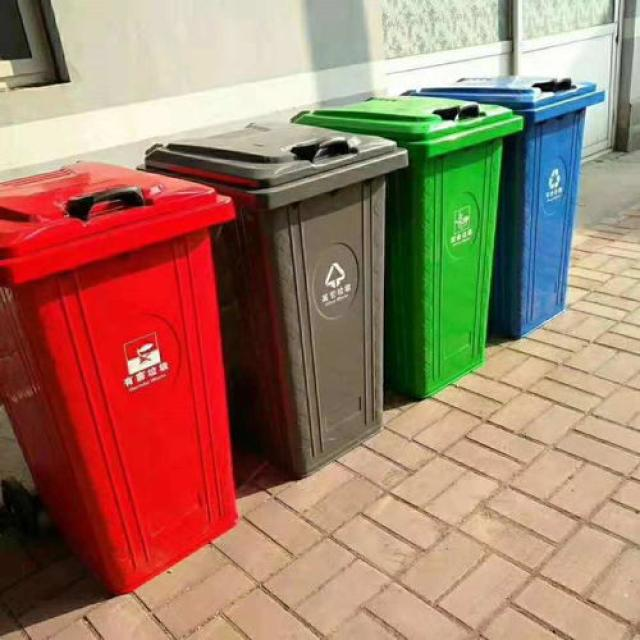garbage_bin: (0, 159, 236, 594), (138, 119, 408, 474), (288, 93, 522, 397), (400, 76, 606, 339)
